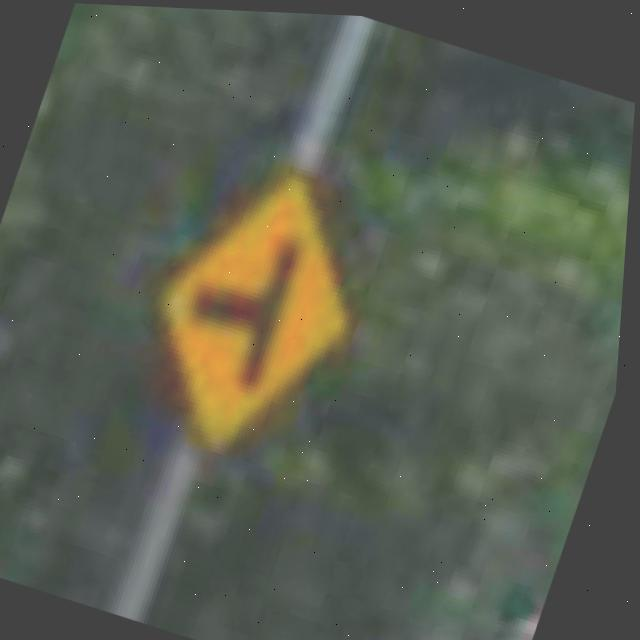Persimpangan 3 Sisi Kiri: (136, 161, 391, 474)
